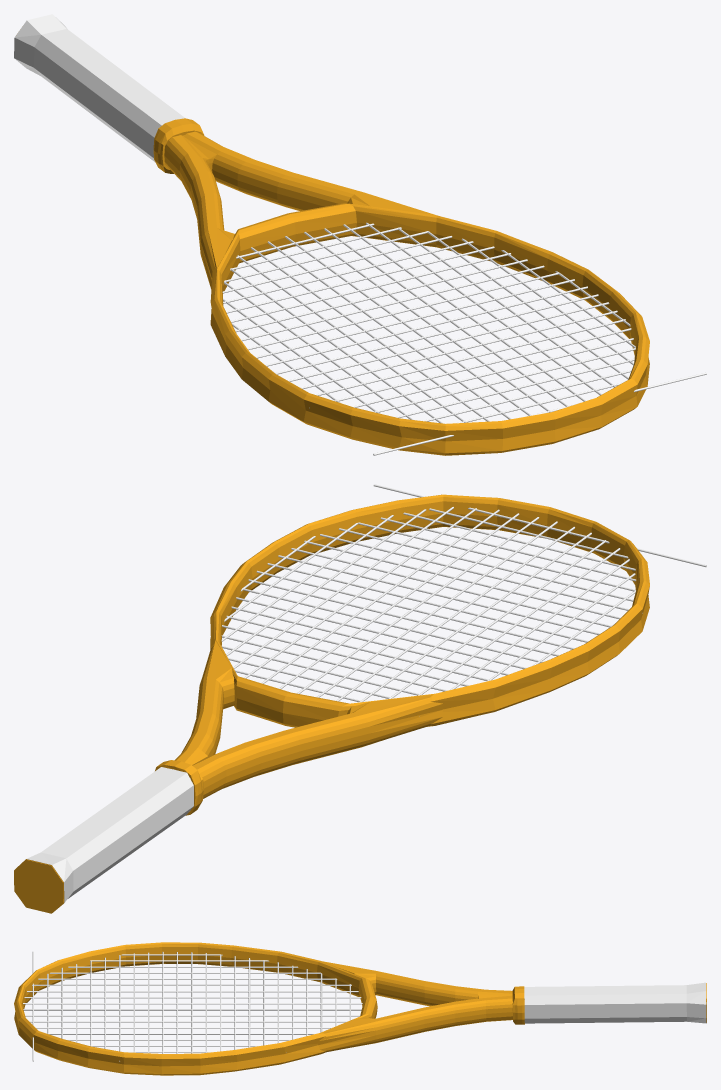
3 renders of one model, top to bottom at view 1: azimuth 30°, elevation 25°; view 2: azimuth 150°, elevation 25°; view 3: azimuth 270°, elevation 25°, orthographic. The views are drawn at different scales.
Parts seen in each view (by area): view 1: frame, Cylinder_10_1, Cylinder_11_1, Cylinder_9_1, Cylinder_12_1, Cylinder_8_1, Cylinder_13_1, Cylinder_7_1, Cylinder_14_1, Cylinder_6_1, Cylinder_9, Cylinder_8 (+12 smaller); view 2: frame, Cylinder_10_1, Cylinder_8_1, Cylinder_9_1, Cylinder_11_1, Cylinder_7_1, Cylinder_12_1, Cylinder_6_1, Cylinder_13_1, Cylinder_5_1, Cylinder_8, Cylinder_14_1 (+13 smaller); view 3: frame, Cylinder_9, Cylinder_8, Cylinder_10, Cylinder_7, Cylinder_5, Cylinder_6, Cylinder_11, Cylinder_4, Cylinder_12, Cylinder_3, Cylinder_13 (+5 smaller).
Part boxes in pixels (x1,y1,x2,y2): frame: (14,14,649,455); Cylinder_10_1: (275,294,598,374); Cylinder_11_1: (265,286,587,366); Cylinder_9_1: (287,302,609,381); Cylinder_12_1: (256,279,574,358); Cylinder_8_1: (300,310,617,389); Cylinder_13_1: (247,272,558,349); Cylinder_7_1: (315,319,625,395); Cylinder_14_1: (241,265,544,341); Cylinder_6_1: (309,328,631,408); Cylinder_9: (304,232,551,412); Cylinder_8: (285,236,530,415); frame: (14,494,649,913); Cylinder_10_1: (267,563,588,642); Cylinder_8_1: (291,548,611,627); Cylinder_9_1: (278,555,600,634); Cylinder_11_1: (256,570,574,649); Cylinder_7_1: (304,540,620,619); Cylinder_12_1: (248,579,559,656); Cylinder_6_1: (320,534,642,613); Cylinder_13_1: (243,588,543,662); Cylinder_5_1: (338,528,633,601); Cylinder_8: (316,521,557,697); Cylinder_14_1: (236,597,526,669); frame: (14,942,706,1075); Cylinder_9: (23,1009,361,1010); Cylinder_8: (23,1003,362,1004); Cylinder_10: (25,1015,359,1016); Cylinder_7: (24,997,361,998); Cylinder_5: (32,984,351,985); Cylinder_6: (27,991,358,992); Cylinder_11: (29,1021,347,1022); Cylinder_4: (38,978,337,979); Cylinder_12: (35,1027,332,1028); Cylinder_3: (50,972,320,973); Cylinder_13: (48,1033,315,1034).
Bounding box in the file's own units: 130 × 18.37 × 330.
